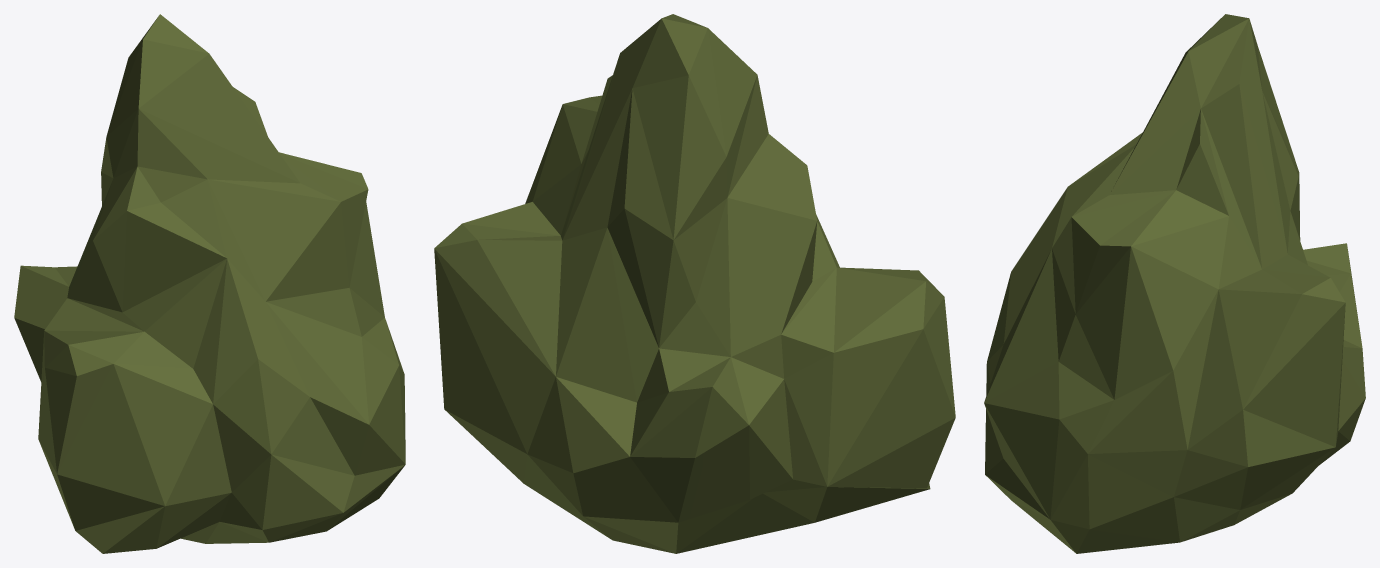
Rendered from adventure_SM_Env_Bush_02.gltf.
The picture shows the model from 3 angles, left to right: view 1: azimuth 30°, elevation 25°; view 2: azimuth 150°, elevation 25°; view 3: azimuth 270°, elevation 25°; orthographic projection. The views are drawn at different scales.
Parts seen in each view (by area): view 1: SM_Env_Bush_02; view 2: SM_Env_Bush_02; view 3: SM_Env_Bush_02.
Boxes of the visible parts, x1,y1,x2,y2 form: SM_Env_Bush_02: [14, 14, 405, 553]; SM_Env_Bush_02: [434, 14, 955, 553]; SM_Env_Bush_02: [984, 14, 1365, 553].
Size of the model in its own units: 1.61 by 2.04 by 1.41.
Materials: 1 (1 with a texture image).
